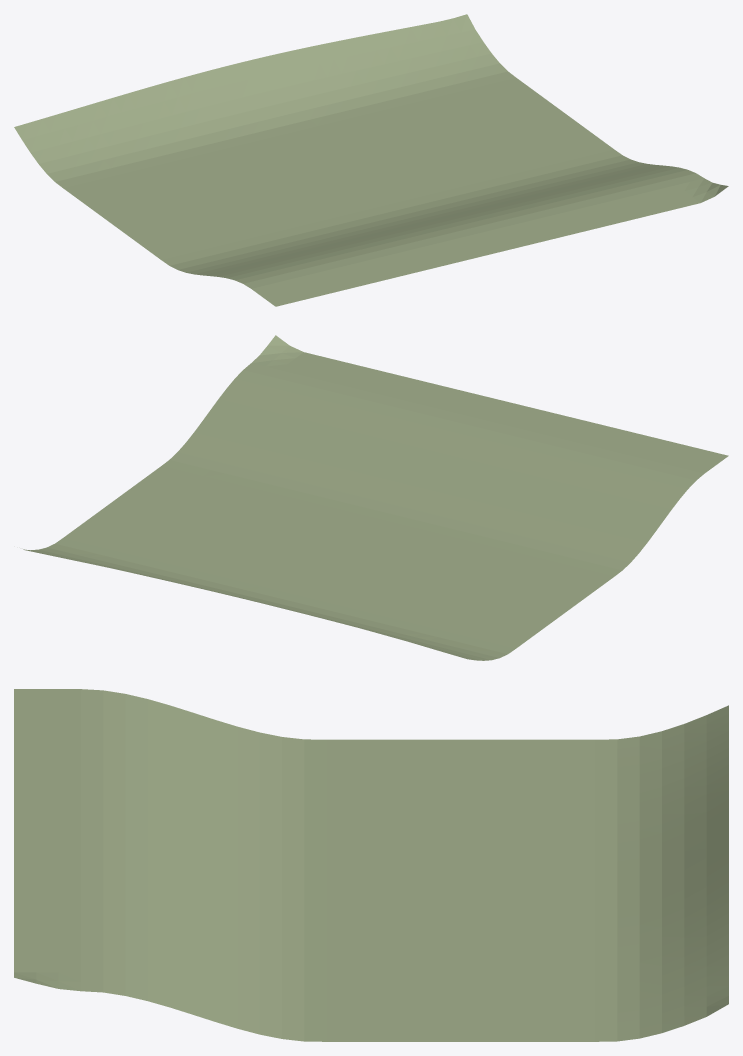
The model's file is railway-0-1.glb.
The picture shows the model from 3 angles, top to bottom: view 1: azimuth 30°, elevation 25°; view 2: azimuth 150°, elevation 25°; view 3: azimuth 270°, elevation 25°; orthographic projection. The views are drawn at different scales.
Parts seen in each view (by area): view 1: railway-0-1; view 2: railway-0-1; view 3: railway-0-1.
Part boxes in pixels (<box>): railway-0-1: <box>14,14,728,306</box>; railway-0-1: <box>23,335,728,660</box>; railway-0-1: <box>14,689,728,1041</box>.
Bounding box in the file's own units: 128 × 12.74 × 128.
